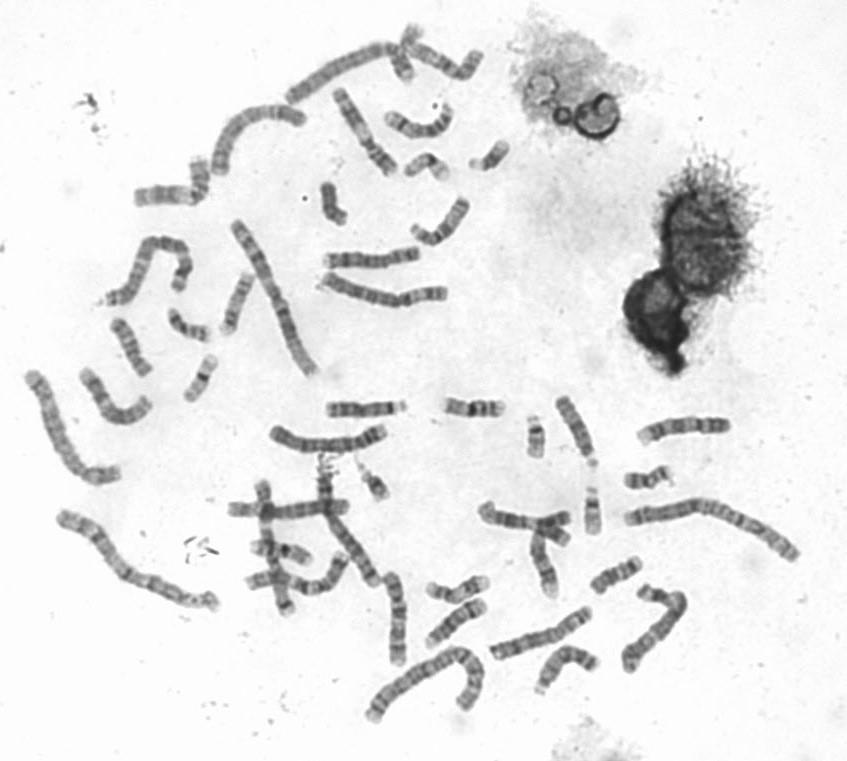chromosomes: (53, 504, 222, 615), (230, 215, 327, 382), (622, 499, 811, 570), (22, 365, 125, 494), (284, 38, 435, 113), (313, 451, 386, 594), (361, 646, 484, 721), (89, 233, 196, 311), (208, 105, 313, 183), (331, 82, 403, 191), (252, 473, 301, 621), (619, 582, 689, 680), (315, 269, 454, 316), (488, 608, 598, 667), (129, 149, 223, 213), (71, 365, 157, 432), (469, 499, 575, 551), (401, 24, 488, 82), (243, 549, 353, 593), (529, 509, 574, 605), (265, 421, 392, 452), (552, 395, 603, 472), (535, 644, 601, 703), (409, 195, 478, 250), (105, 314, 157, 385), (632, 414, 740, 448), (424, 596, 488, 653), (223, 497, 359, 522), (382, 569, 411, 676), (383, 99, 454, 142), (215, 268, 259, 337), (319, 243, 424, 269), (423, 571, 493, 607), (589, 554, 645, 598), (181, 350, 224, 406), (165, 302, 216, 347), (248, 536, 314, 570), (401, 148, 455, 188), (469, 138, 520, 180), (437, 391, 508, 421), (318, 177, 354, 234), (324, 398, 410, 421), (353, 461, 393, 510), (624, 463, 676, 497), (584, 484, 610, 544), (526, 411, 548, 464)
